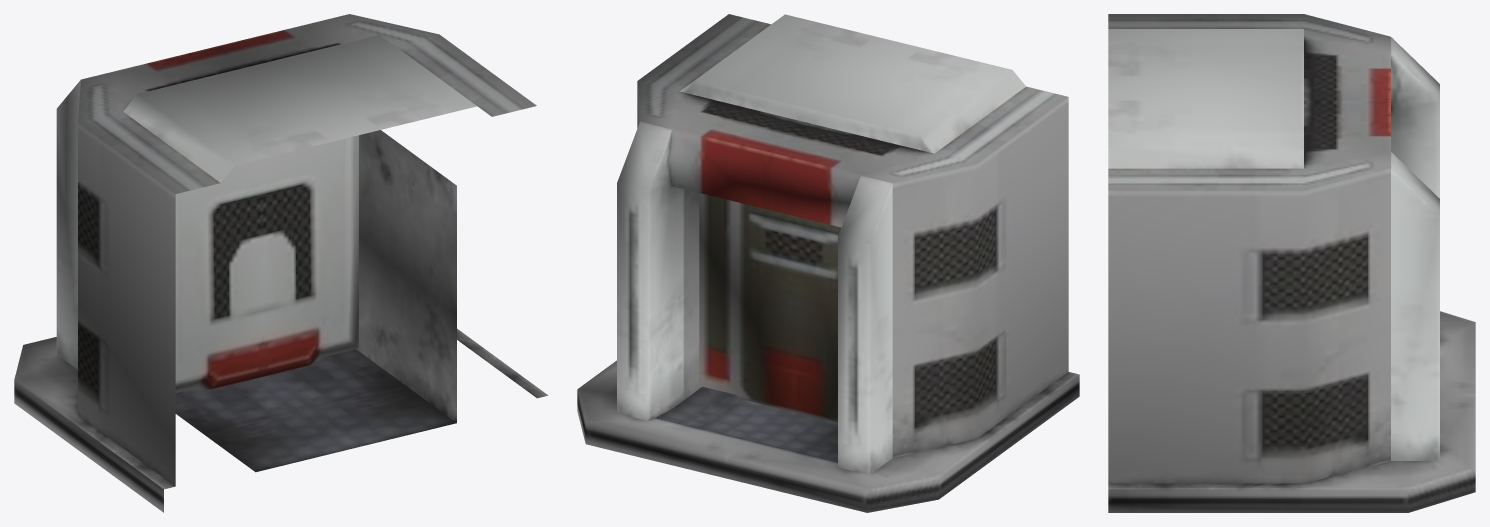
The model's file is Part - Door 02 frame-CFaexTYF.glb.
3 renders of one model, left to right at view 1: azimuth 30°, elevation 25°; view 2: azimuth 150°, elevation 25°; view 3: azimuth 270°, elevation 25°, orthographic. The views are drawn at different scales.
Parts seen in each view (by area): view 1: Door_02_frame, Door_02; view 2: Door_02_frame, Door_02; view 3: Door_02_frame.
Boxes of the visible parts, box(x1,y1,x2,y2) form: Door_02_frame: box(14, 14, 548, 512); Door_02: box(175, 135, 358, 392); Door_02_frame: box(577, 14, 1079, 512); Door_02: box(699, 193, 840, 422); Door_02_frame: box(1108, 14, 1475, 512).
Bounding box in the file's own units: 1.47 × 1.2 × 1.21.
1 material, 1 textured.
